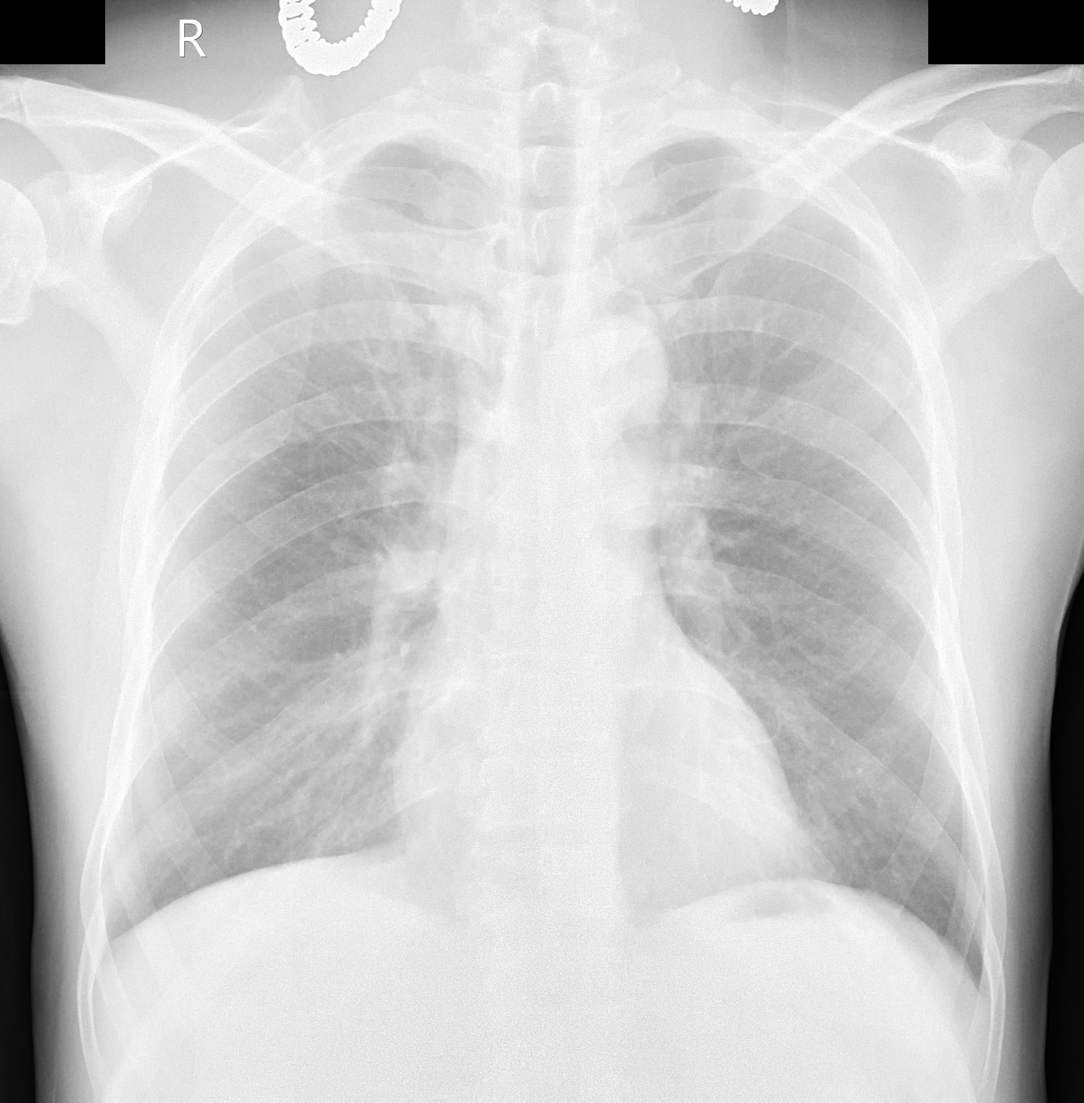Pulmonary fibrosis: (774, 313, 830, 368)
